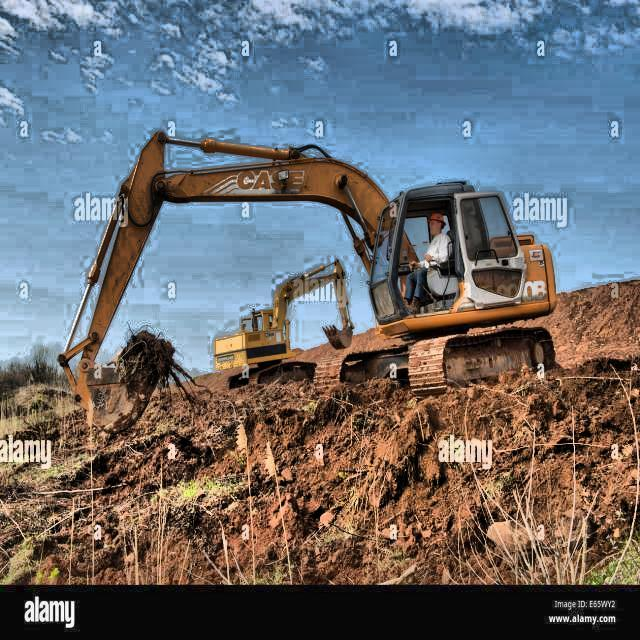excavator: (56, 128, 560, 436), (212, 256, 354, 390)
